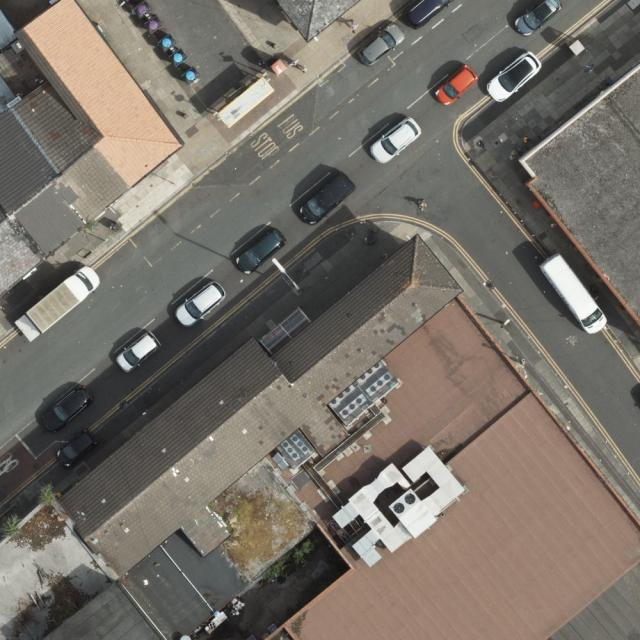roof: (0, 233, 640, 640), (0, 0, 184, 297), (523, 65, 640, 327), (278, 0, 358, 40)
